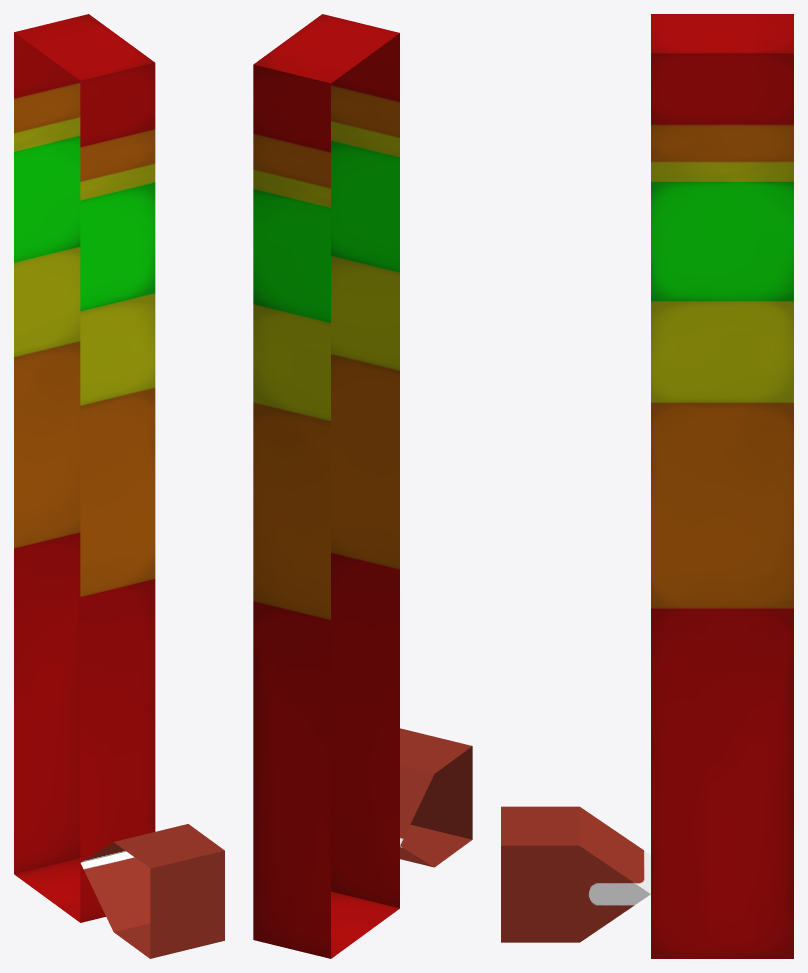
File: fillbar1.gltf
3 views of the same model, side by side, from view 1: azimuth 30°, elevation 25°; view 2: azimuth 150°, elevation 25°; view 3: azimuth 270°, elevation 25° (orthographic). The views are drawn at different scales.
Parts seen in each view (by area): view 1: Cube.001; view 2: Cube.001; view 3: Cube.001.
Part boxes in pixels (x1=…): Cube.001: x1=14, y1=14, x2=224, y2=958; Cube.001: x1=253, y1=14, x2=472, y2=958; Cube.001: x1=501, y1=14, x2=793, y2=958.
Size of the model in its own units: 0.13 by 1.4 by 0.41.
